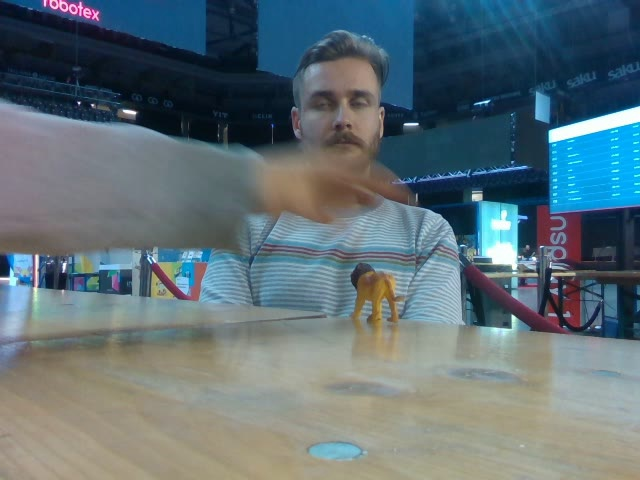toy: (347, 263, 406, 323)
